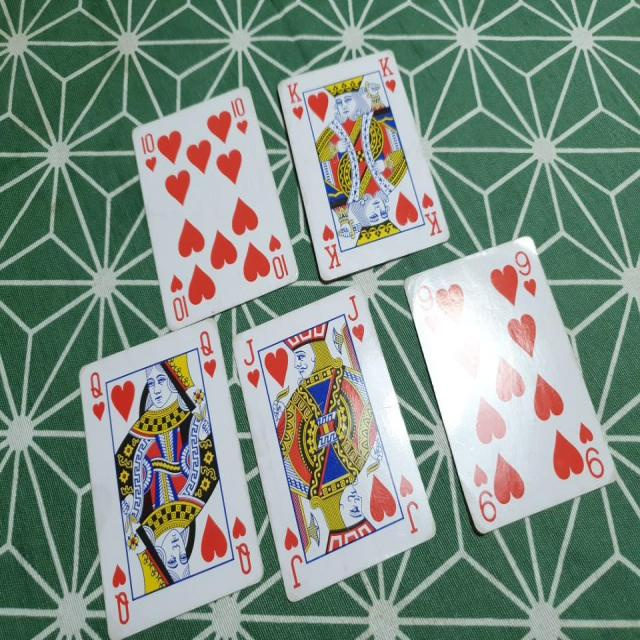10 Hearts: (139, 84, 302, 332)
9 Hearts: (412, 224, 620, 533)
J Hearts: (232, 282, 433, 618)
K Hearts: (276, 40, 455, 288)
Q Hearts: (73, 316, 266, 634)
